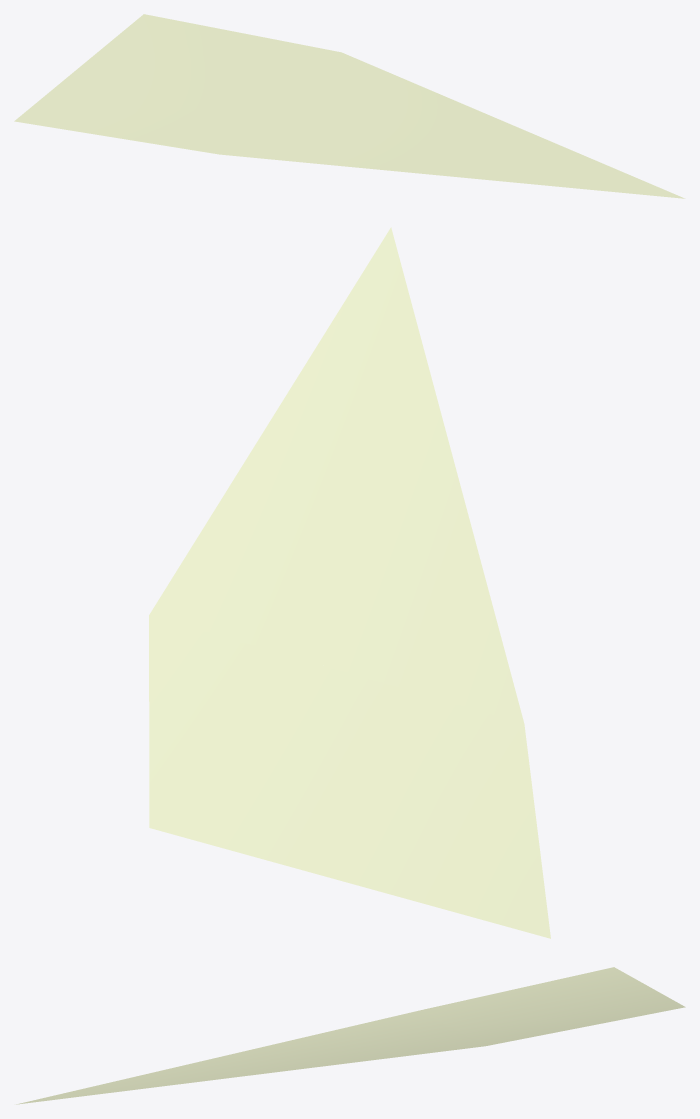
The model's file is tjunction.fbx.
The picture shows the model from 3 angles, top to bottom: view 1: azimuth 30°, elevation 25°; view 2: azimuth 150°, elevation 25°; view 3: azimuth 270°, elevation 25°; orthographic projection. The views are drawn at different scales.
Visible parts, largest first — view 1: seat_backrest:1.002; view 2: seat_backrest:1.002; view 3: seat_backrest:1.002.
Boxes of the visible parts, x1,y1,x2,y2 form: seat_backrest:1.002: (14, 14, 685, 198); seat_backrest:1.002: (149, 227, 550, 938); seat_backrest:1.002: (16, 967, 685, 1104).
Bounding box in the file's own units: 4774 × 618 × 7291.
